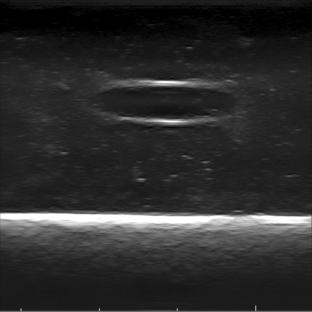vessel: (91, 79, 239, 125)
